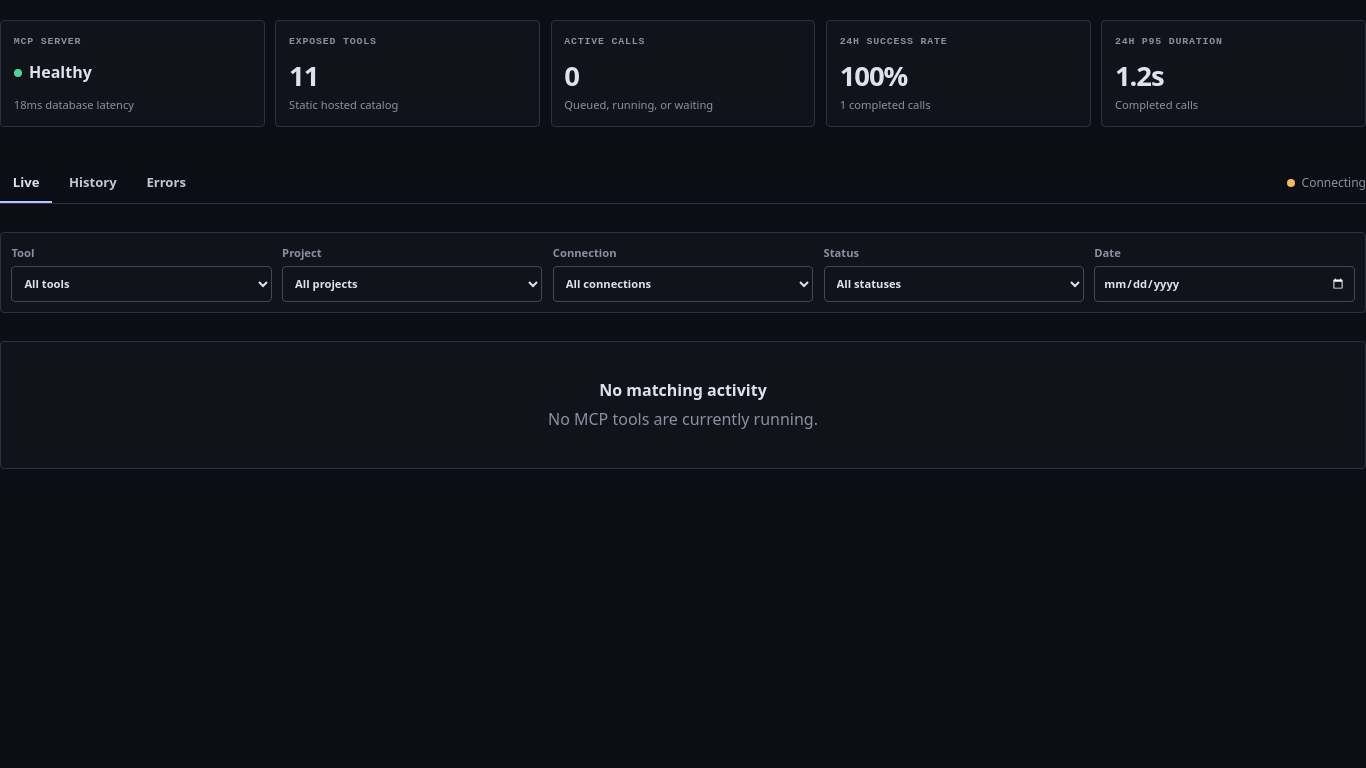
Test: MCP activity dashboard › shows what a completed verification checked and changed
Click the tab "History".
click(93, 183)  # box [56,163,130,203]
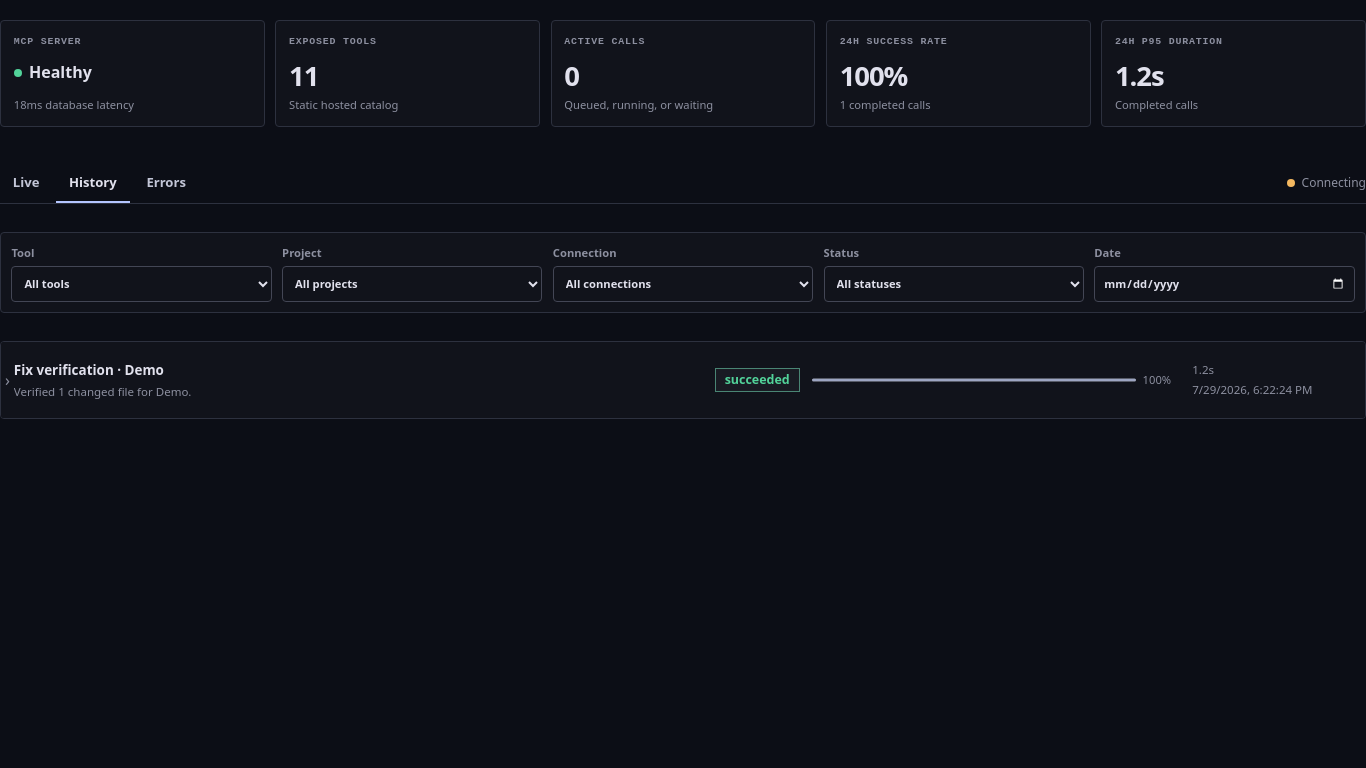
Click the text "Fix verification · Demo".
click(89, 370)  # box [14,361,164,379]
(page scrolled)
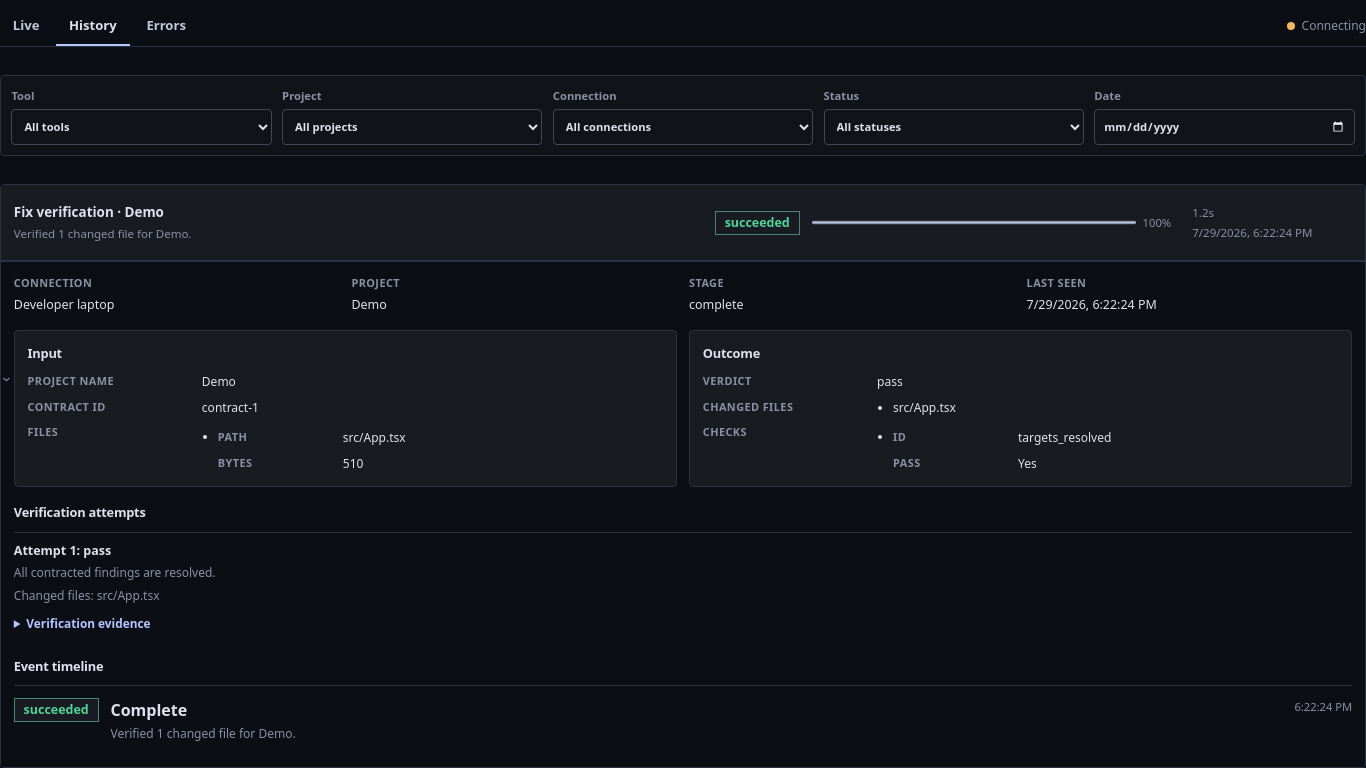
Expected: the text "Verified 1 changed file for Demo." below "Fix verification · Demo" is shown, [14,226,192,241]
Expected: the text "src/App.tsx" next to "Path" is shown, [343,429,406,446]
Expected: the text "Attempt 1: pass" is shown, [14,542,111,559]
